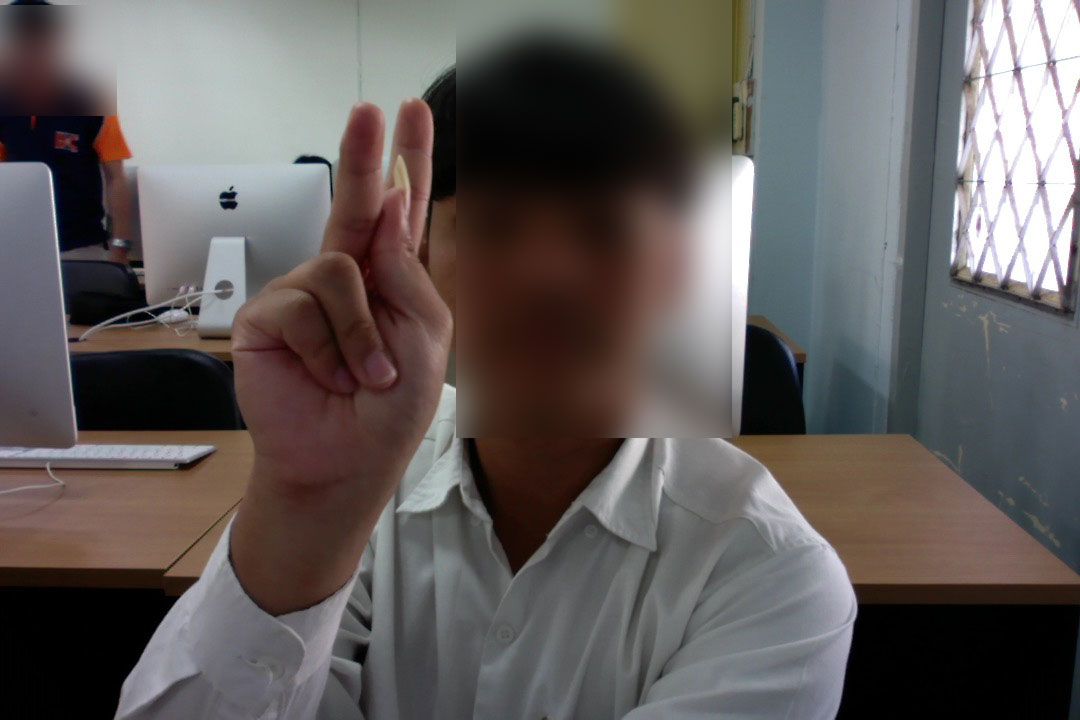ko: (210, 86, 469, 493)
